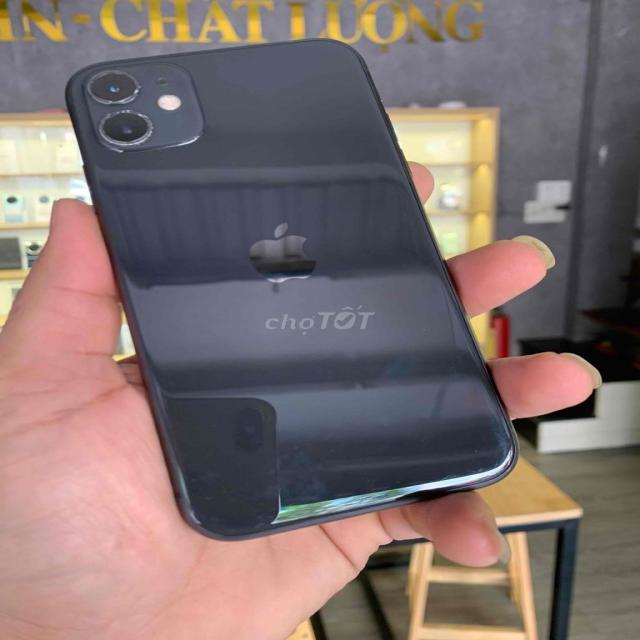scratch: (158, 468, 284, 542), (395, 431, 519, 485), (103, 105, 168, 154), (117, 79, 150, 109), (93, 94, 126, 112)
